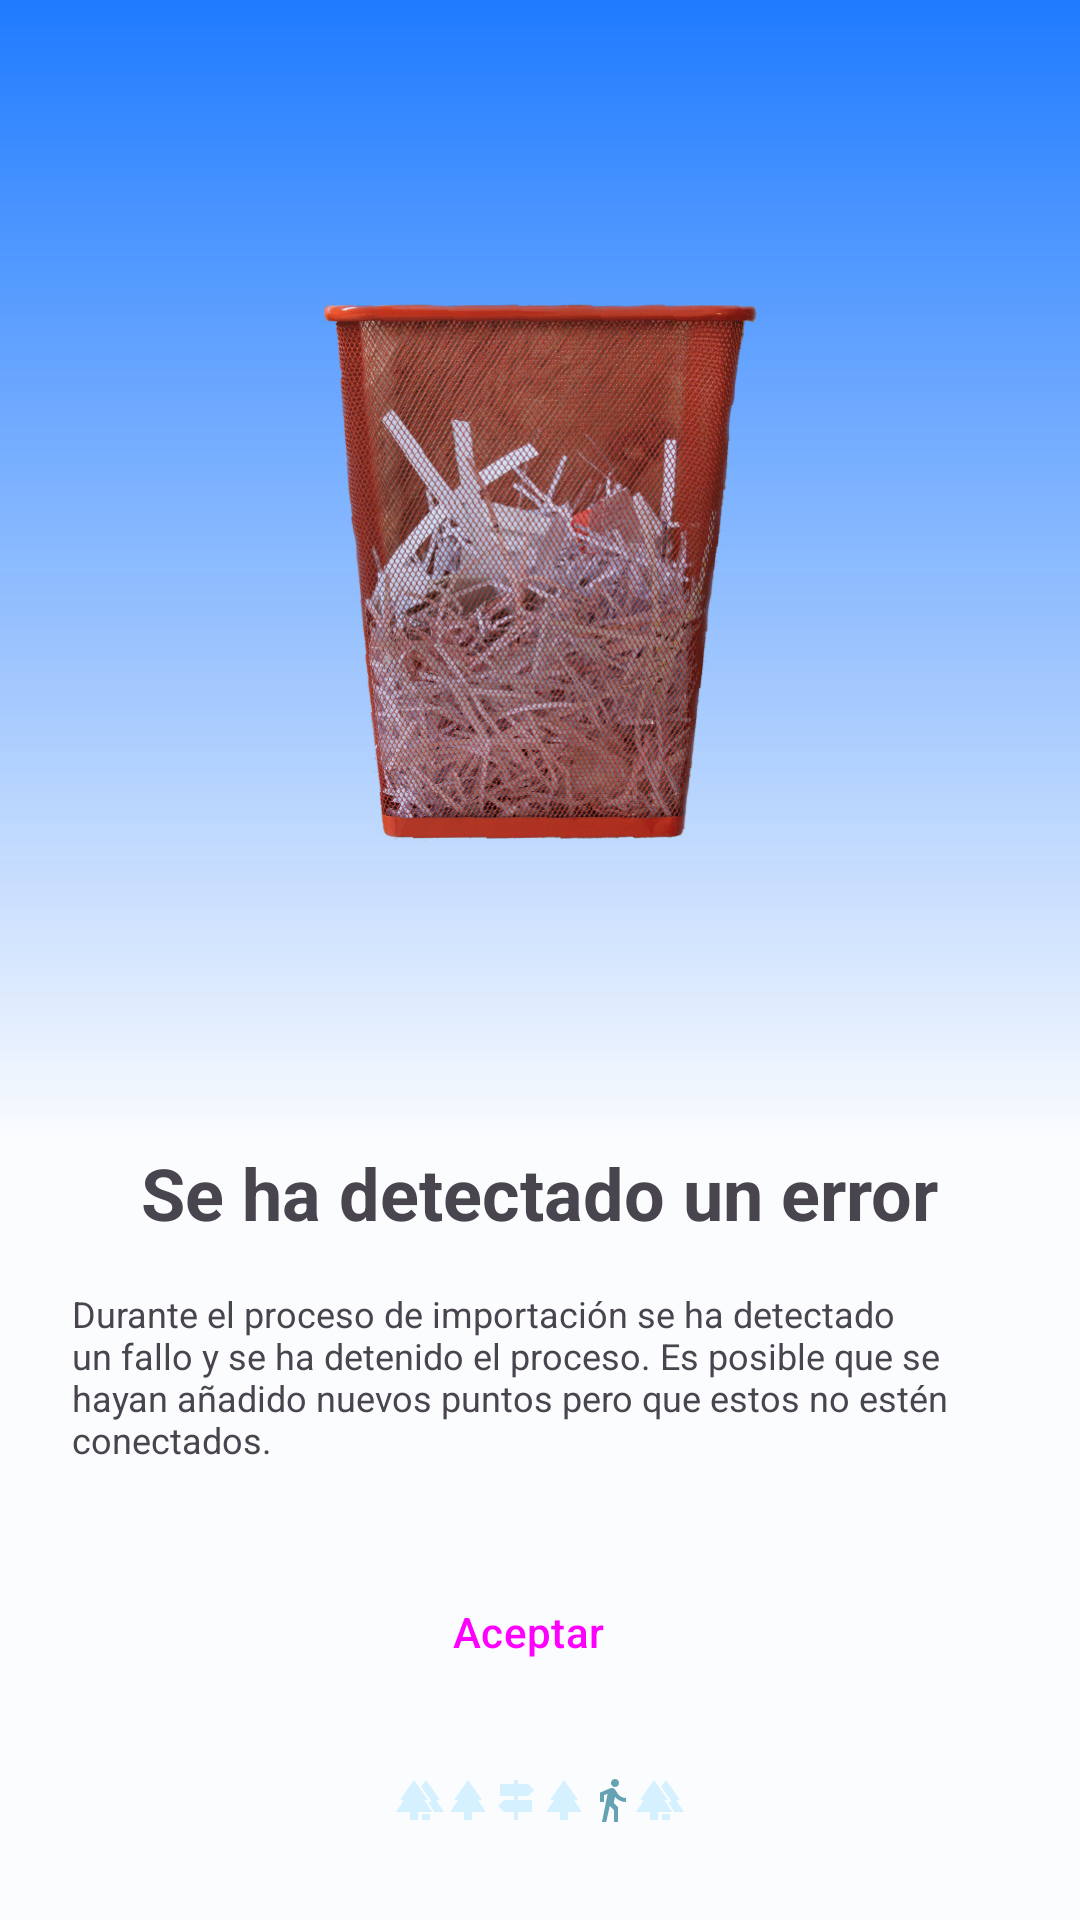

Named icons in this screenshot (1080×1920) and their bounding boxes, [x1, y1, x2, y2]:
arbol: [451, 1781, 486, 1820], [547, 1781, 582, 1820]
bosque: [396, 1781, 444, 1820], [636, 1781, 684, 1820]
caminar: [600, 1779, 626, 1822]
senal: [499, 1780, 534, 1820]
